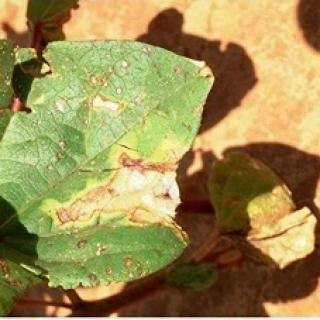wilt: (6, 34, 218, 286), (226, 147, 316, 289)
